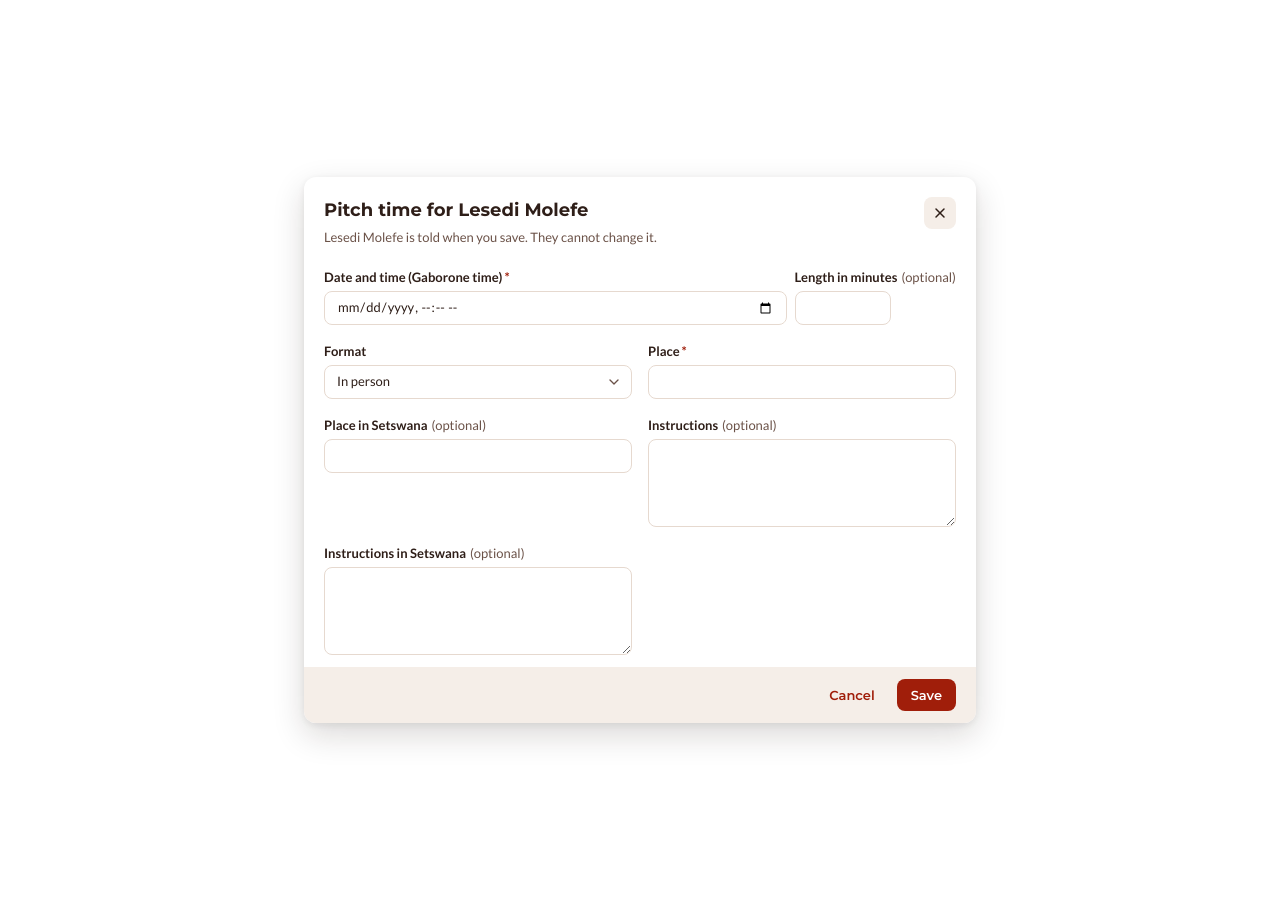
Test: set or change one person › an empty form does not save
The width and height of the screenshot is (1280, 900).
Click the button "Save". click: (926, 695)
box: top-left (897, 679), bottom-right (956, 711)
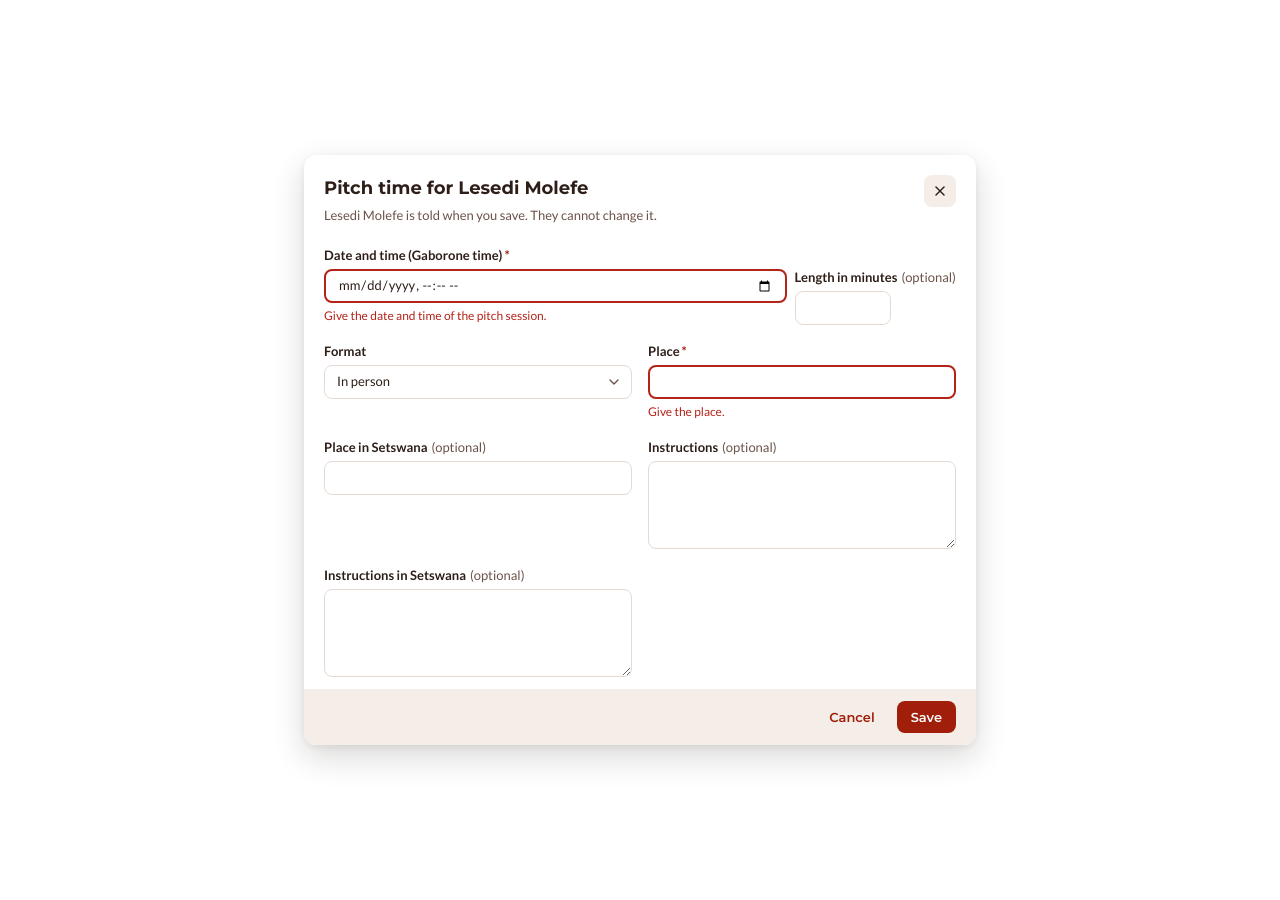
Expected: the text "Give the date and time of the pitch session." is shown, top-left (324, 308), bottom-right (546, 323)
